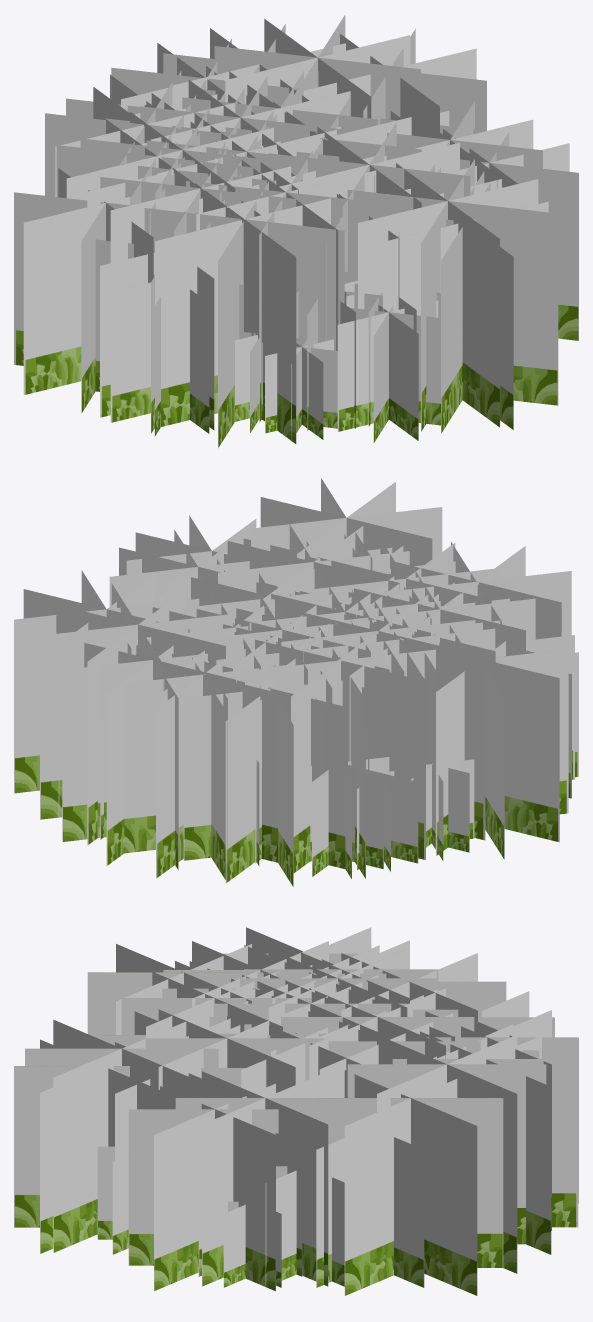
Rendered from SM_Grass_Shorts.fbx.
3 views of the same model, one above another, from view 1: azimuth 30°, elevation 25°; view 2: azimuth 150°, elevation 25°; view 3: azimuth 270°, elevation 25° (orthographic). The views are drawn at different scales.
Visible parts, largest first — view 1: SM_Grass_Shorts; view 2: SM_Grass_Shorts; view 3: SM_Grass_Shorts.
Boxes of the visible parts, x1=… form: SM_Grass_Shorts: x1=14, y1=15, x2=578, y2=448; SM_Grass_Shorts: x1=14, y1=478, x2=578, y2=886; SM_Grass_Shorts: x1=14, y1=927, x2=578, y2=1295.
Bounding box in the file's own units: 130 × 47.43 × 135.
